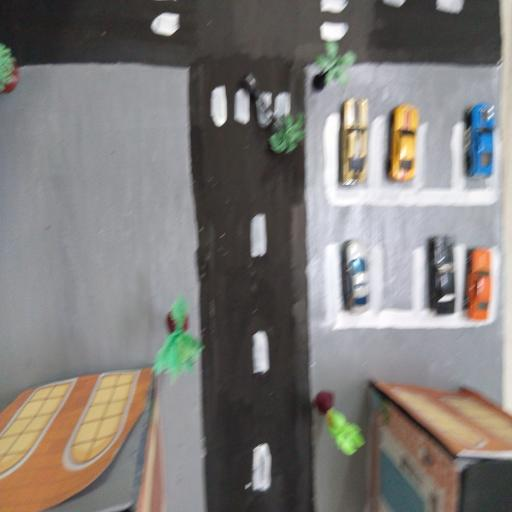fallen trees: (237, 68, 307, 160)
